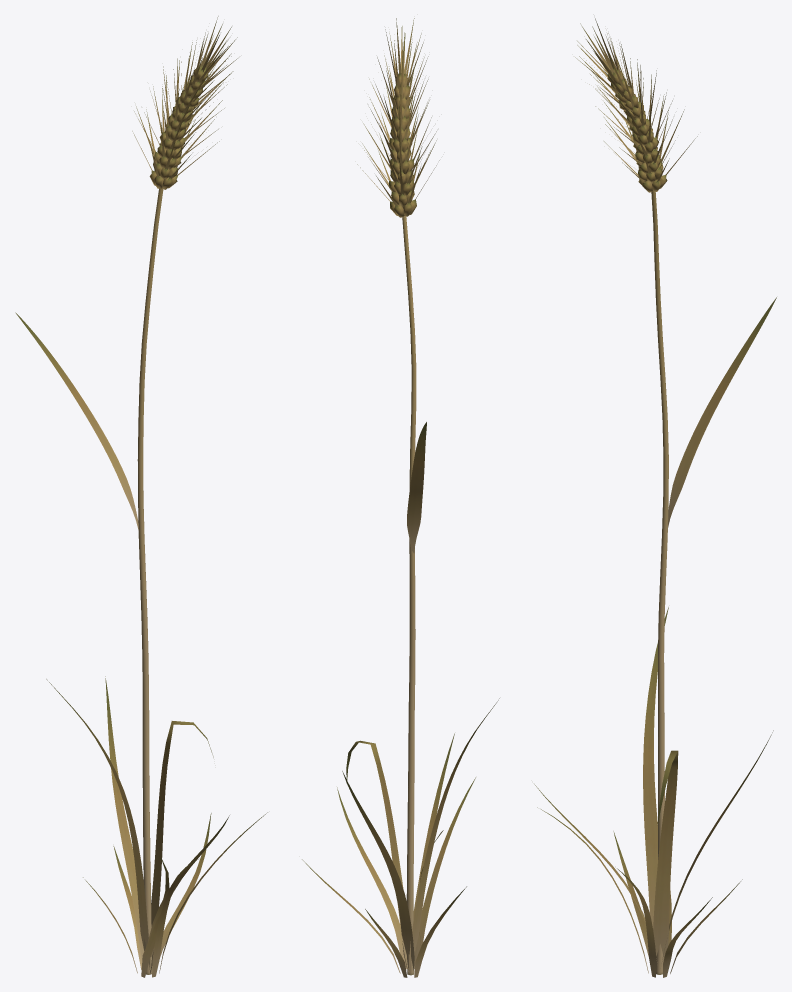
The model's file is wheat_single_strand.fbx.
The picture shows the model from 3 angles, left to right: view 1: azimuth 30°, elevation 25°; view 2: azimuth 150°, elevation 25°; view 3: azimuth 270°, elevation 25°; orthographic projection. The views are drawn at different scales.
Visible parts, largest first — view 1: wheat__0.014; view 2: wheat__0.014; view 3: wheat__0.014.
Boxes of the visible parts, <box> form: wheat__0.014: <box>15,16,267,977</box>; wheat__0.014: <box>302,18,499,977</box>; wheat__0.014: <box>534,18,776,977</box>.
Bounding box in the file's own units: 24.8 × 115 × 26.48.
1 material, 1 textured.
